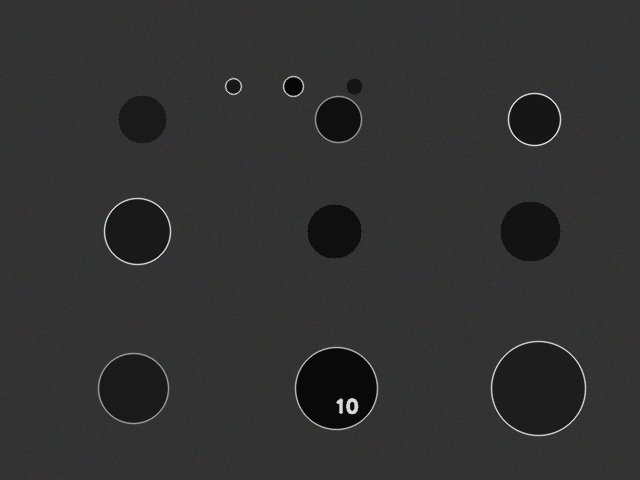hole: (491, 341, 585, 435), (295, 347, 377, 429), (98, 353, 168, 423), (104, 198, 170, 264), (500, 201, 560, 261), (307, 204, 361, 258), (508, 93, 560, 145), (118, 95, 166, 143), (315, 96, 361, 142), (283, 76, 303, 96), (225, 78, 241, 94), (346, 78, 362, 94)
